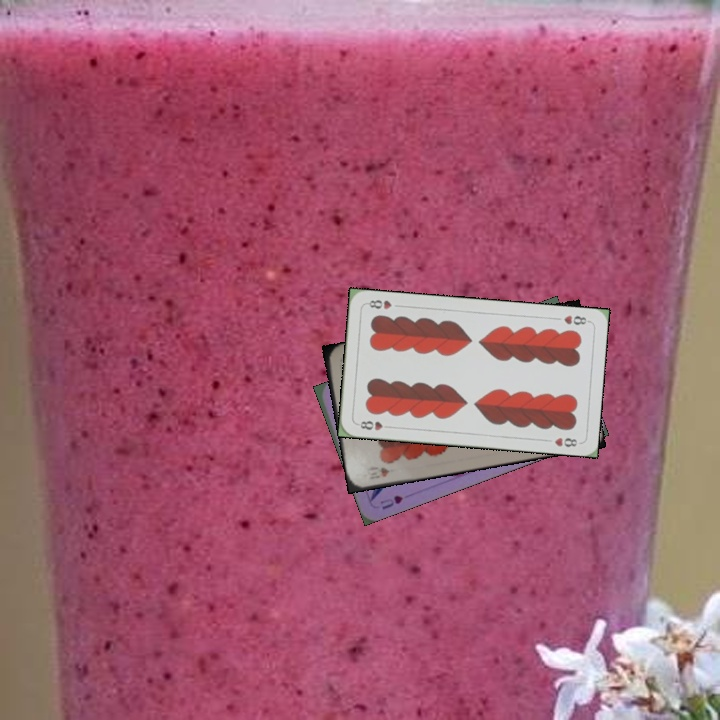H10: (363, 463, 392, 481)
H8: (354, 417, 394, 433), (560, 311, 592, 327)
HU: (376, 491, 405, 512)
